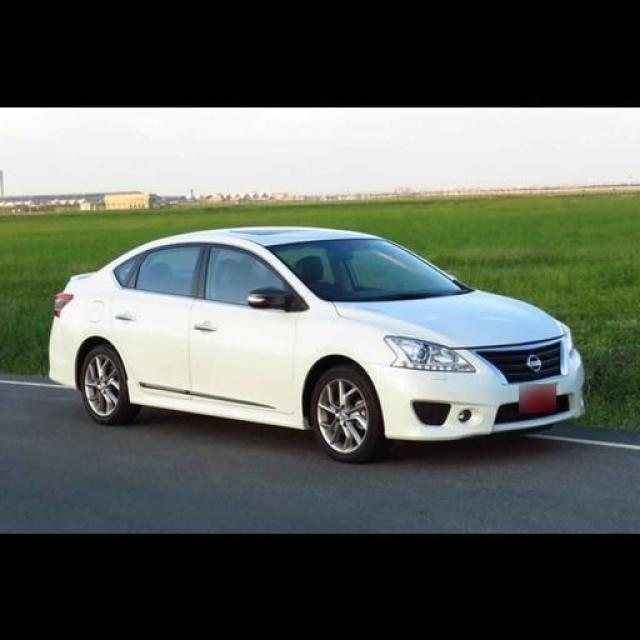back_right_door: (114, 242, 209, 397)
front_bumper: (362, 352, 586, 441)
front_glass: (268, 238, 465, 301)
front_right_door: (187, 245, 309, 414)
front_right_light: (386, 336, 474, 371)
hood: (332, 289, 562, 349)
right_mirror: (246, 286, 294, 309)
wheel: (82, 346, 382, 462)
